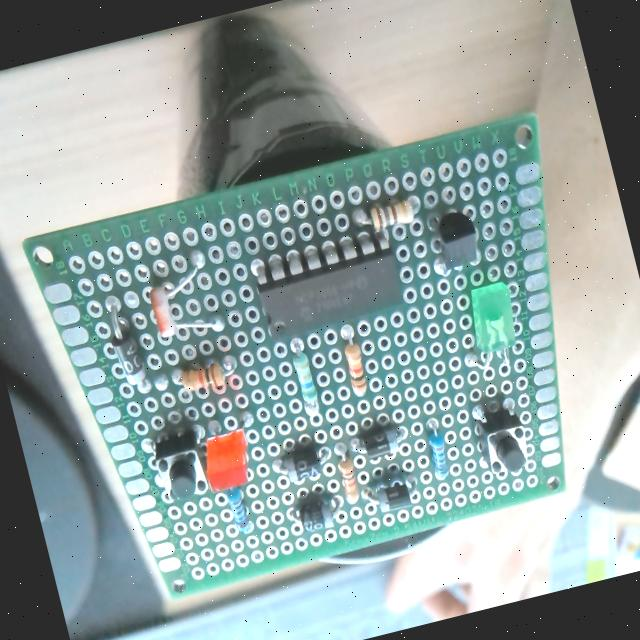IC: (240, 227, 428, 355)
cds: (140, 253, 222, 343)
diode: (94, 292, 158, 406), (272, 438, 335, 486), (346, 422, 408, 463), (294, 490, 344, 532), (371, 477, 417, 514)
led: (444, 274, 537, 382), (190, 418, 265, 503)
resistor: (159, 344, 256, 407), (288, 339, 322, 414), (359, 194, 416, 234), (340, 340, 370, 397), (425, 428, 453, 480), (335, 453, 362, 504), (224, 486, 252, 534)
switch: (470, 397, 534, 481), (149, 427, 213, 504)
transistor: (421, 203, 496, 288)
